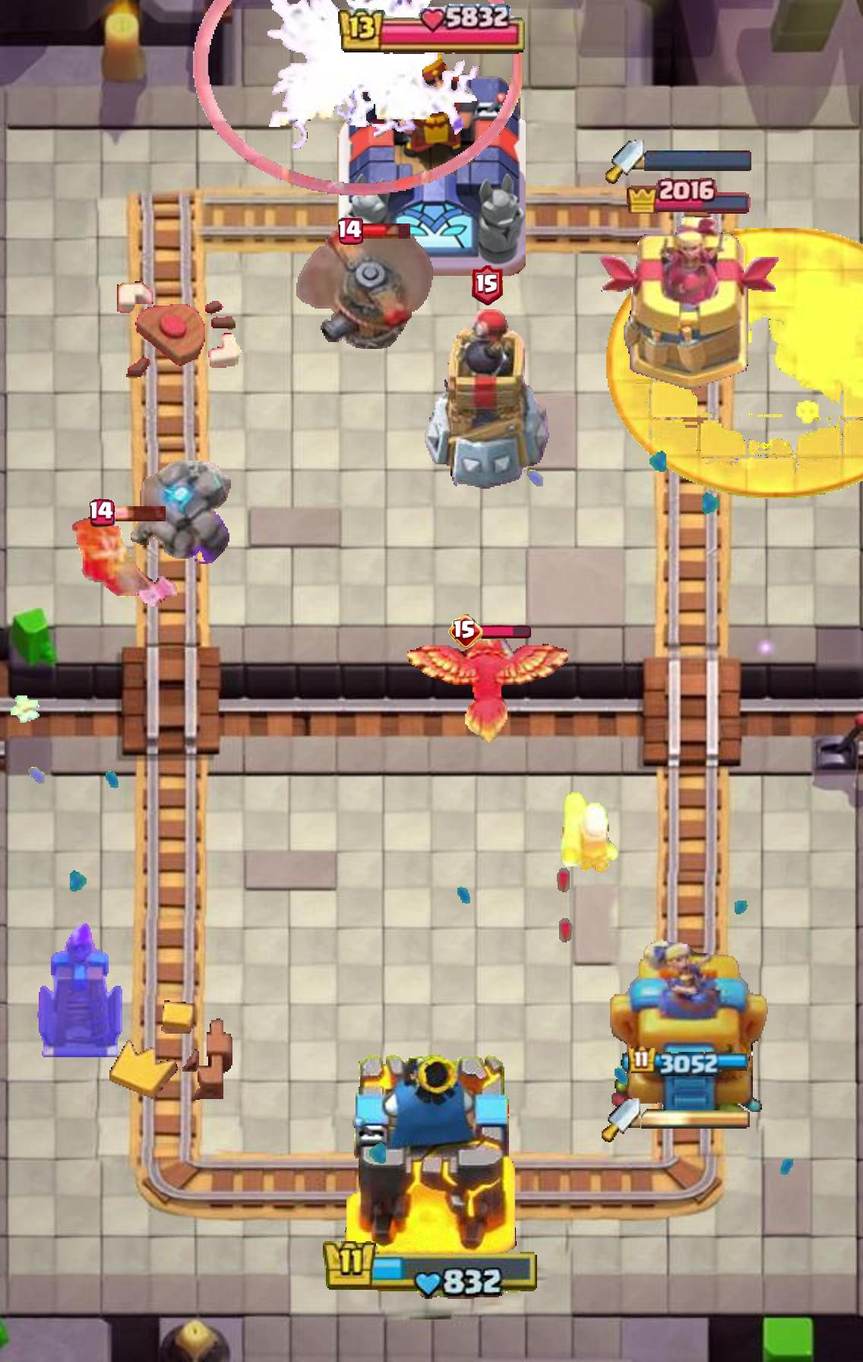bar: (112, 504, 168, 522), (359, 221, 413, 239), (479, 625, 531, 640)
bar-level: (471, 266, 503, 306), (448, 614, 483, 649), (337, 217, 363, 245), (90, 499, 115, 527)
